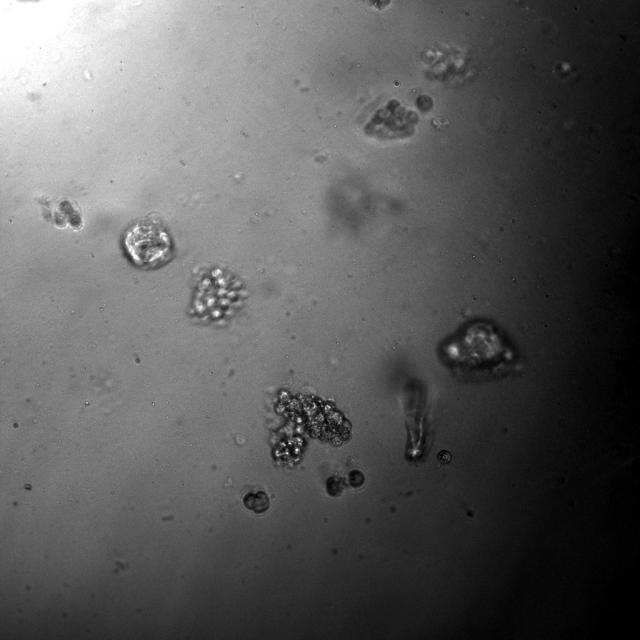organoid: (271, 387, 351, 468), (438, 319, 521, 382), (187, 264, 248, 325), (119, 212, 175, 269), (421, 43, 477, 84), (364, 99, 419, 140), (35, 198, 84, 231), (326, 469, 366, 496), (243, 488, 270, 514), (552, 61, 579, 84), (416, 94, 432, 111), (431, 117, 449, 130), (438, 450, 452, 464)
